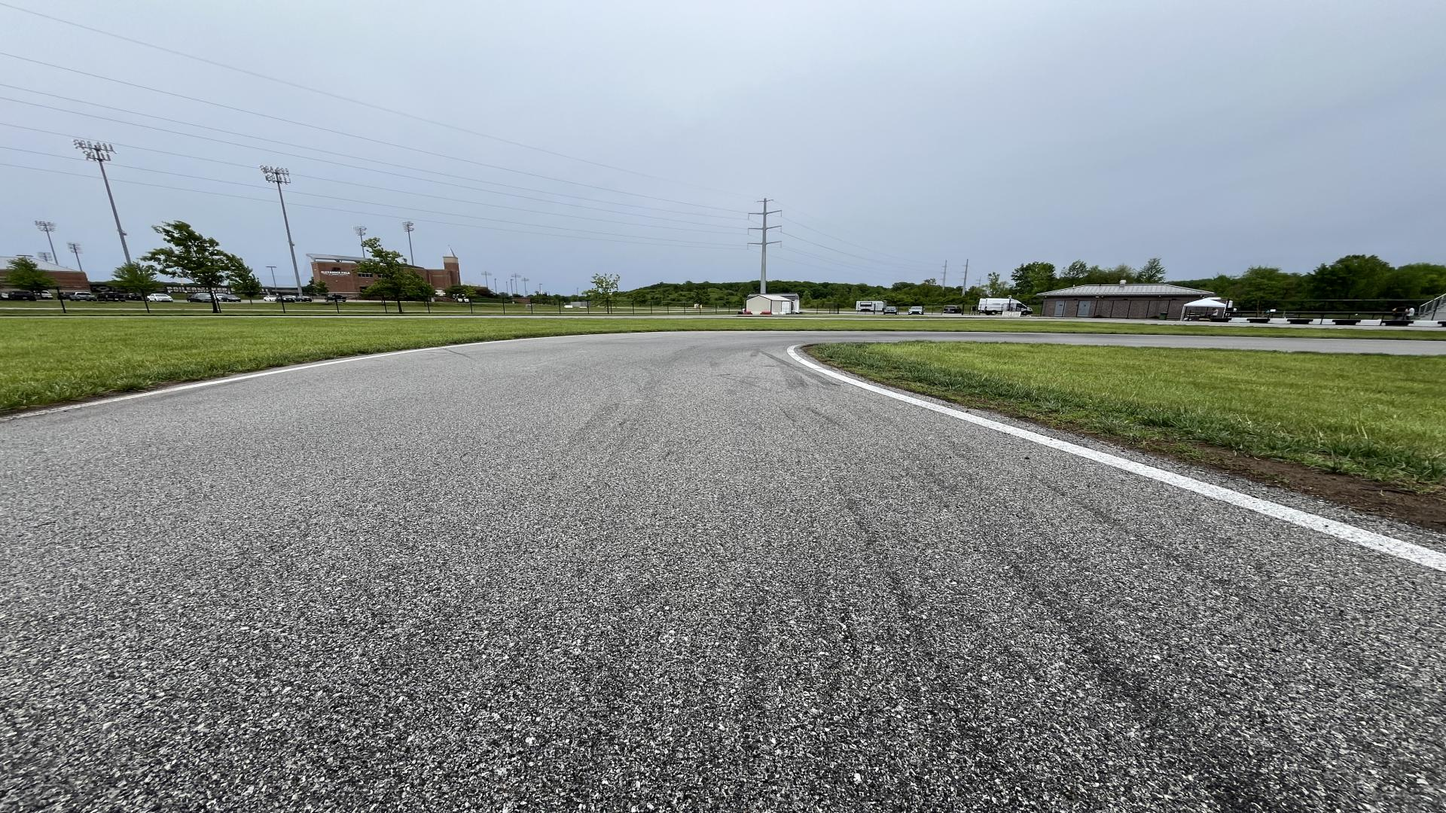white-line: (787, 343, 1445, 574), (0, 332, 938, 422)
